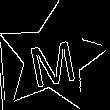M_N: (26, 30, 80, 87)
